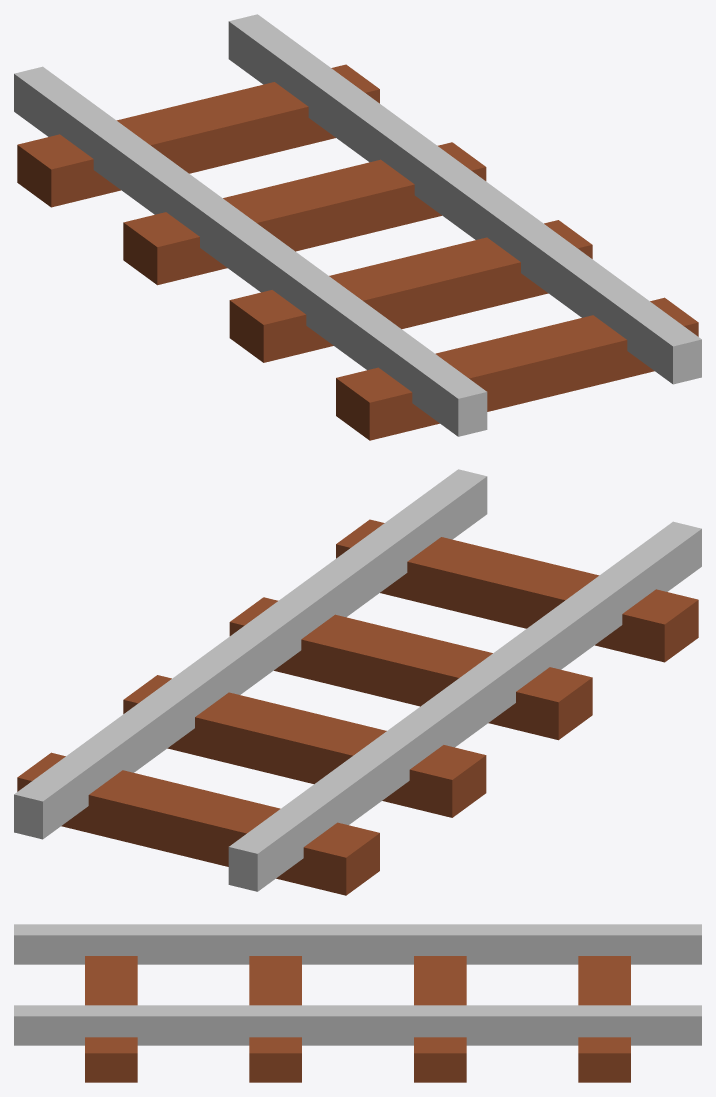
Rendered from Rails.fbx.
The picture shows the model from 3 angles, top to bottom: view 1: azimuth 30°, elevation 25°; view 2: azimuth 150°, elevation 25°; view 3: azimuth 270°, elevation 25°; orthographic projection. The views are drawn at different scales.
Parts seen in each view (by area): view 1: Cube, Cube_0, Cube_1, Cube_2, Cube_3; view 2: Cube, Cube_3, Cube_2, Cube_1, Cube_0; view 3: Cube, Cube_0, Cube_1, Cube_2, Cube_3.
Boxes of the visible parts, x1,y1,x2,y2 form: Cube: (14, 14, 701, 436); Cube_0: (336, 297, 698, 440); Cube_1: (229, 220, 592, 362); Cube_2: (123, 142, 486, 285); Cube_3: (17, 64, 379, 207); Cube: (14, 469, 701, 891); Cube_3: (17, 752, 379, 895); Cube_2: (123, 675, 486, 817); Cube_1: (229, 597, 592, 740); Cube_0: (336, 519, 698, 662); Cube: (14, 924, 701, 1045); Cube_0: (85, 956, 137, 1082); Cube_1: (249, 956, 301, 1082); Cube_2: (414, 956, 466, 1082); Cube_3: (578, 956, 630, 1082).
Size of the model in its own units: 37.55 by 7.09 by 87.85.
